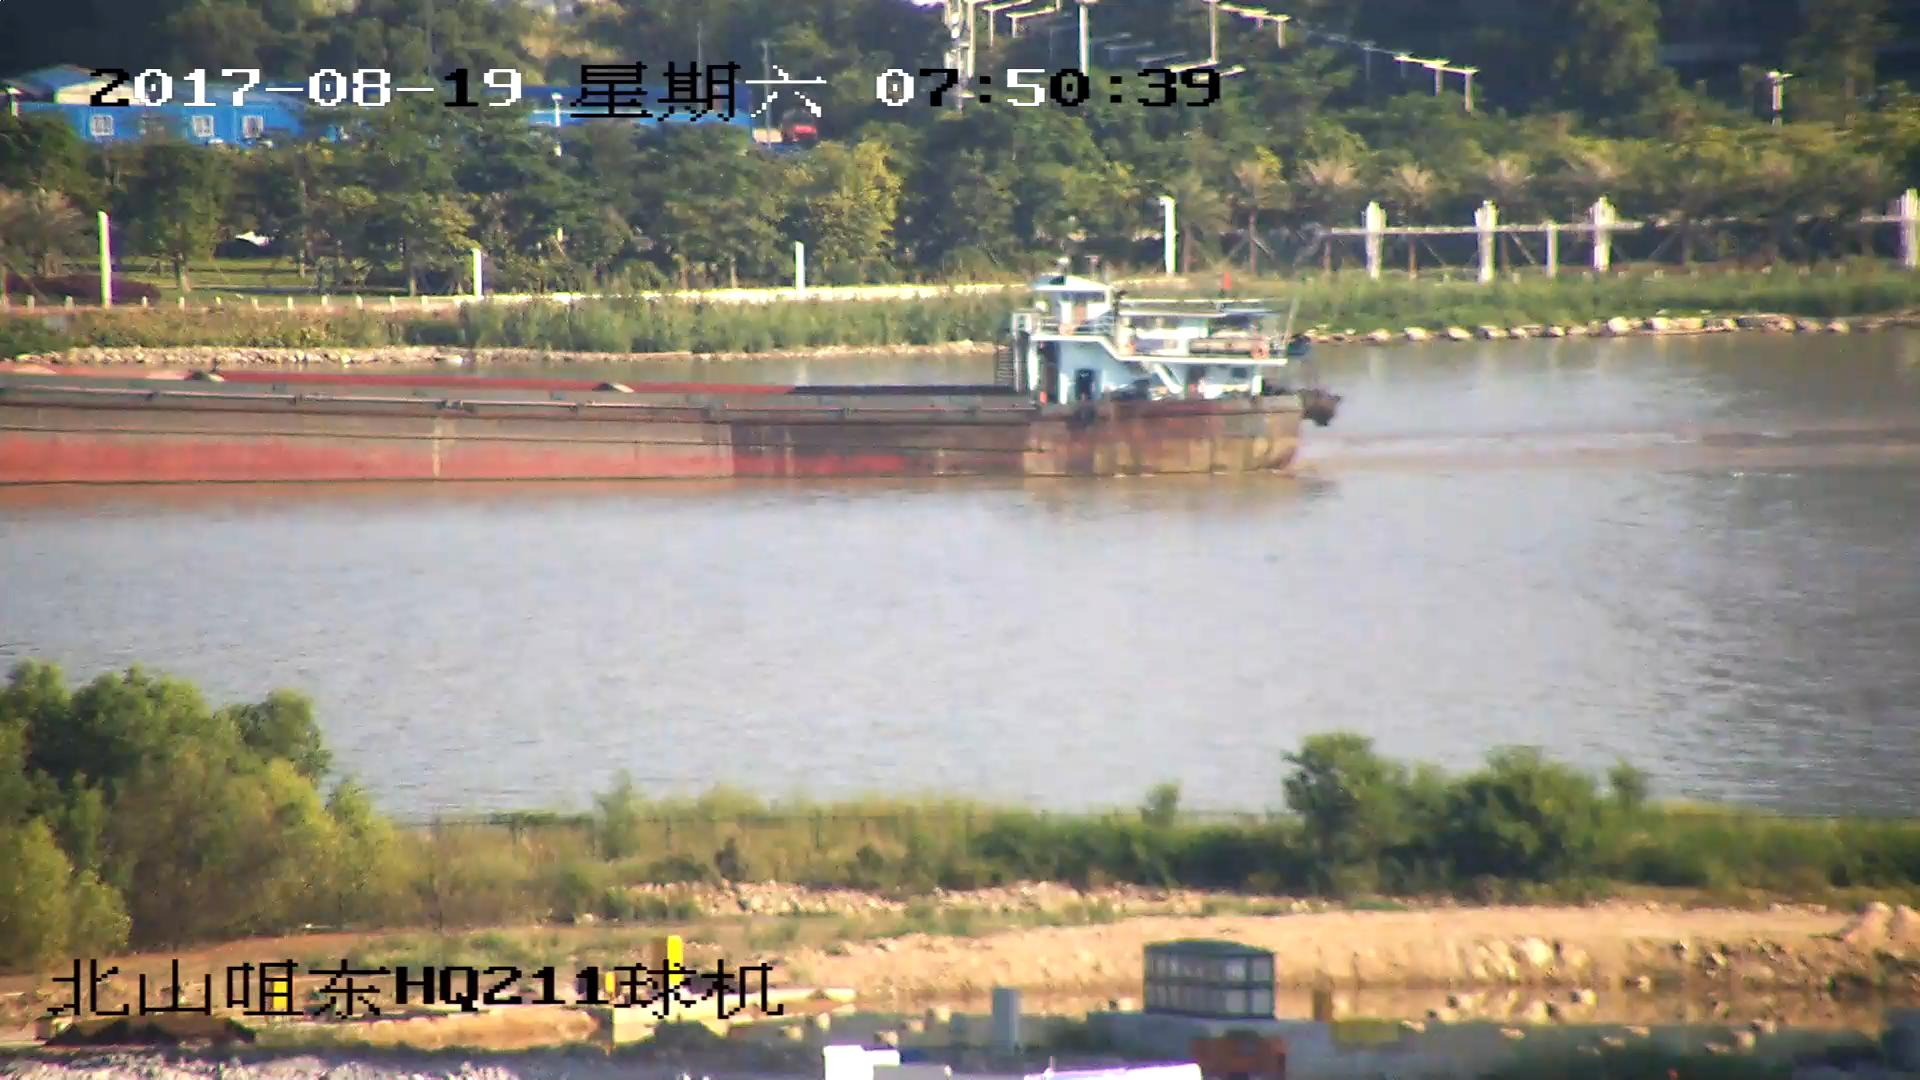bulk cargo carrier: (1, 262, 1346, 485)
